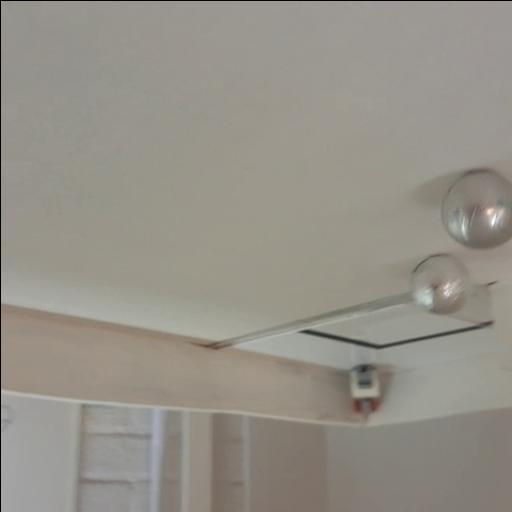alive: (440, 168, 512, 248), (408, 252, 472, 313)
